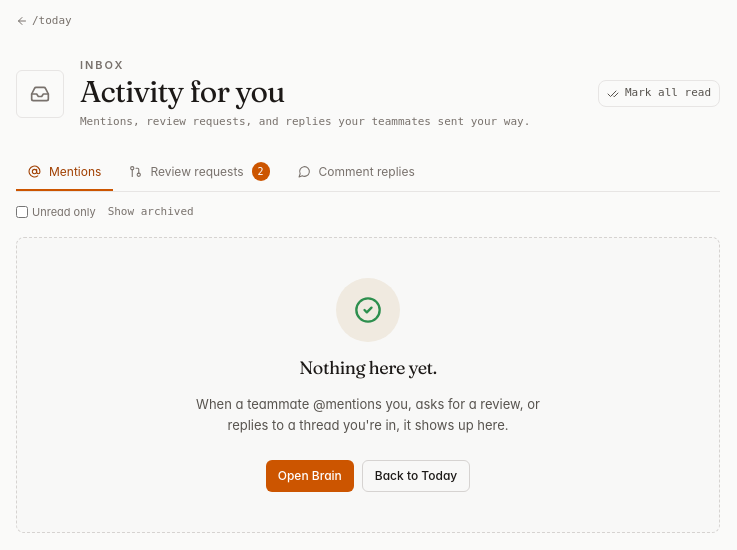
Test: InboxRoute (wave 1.13-A) › switches to review requests tab and shows badge counts
Expected: the text "2" is shown, [252, 162, 270, 181]
Expected: the text with test id "inbox-tab-review_request-badge" reads "2", [258, 166, 264, 177]
Step 1. Click the tab with test id "inbox-tab-review_request" → [200, 172], box [117, 154, 282, 191]
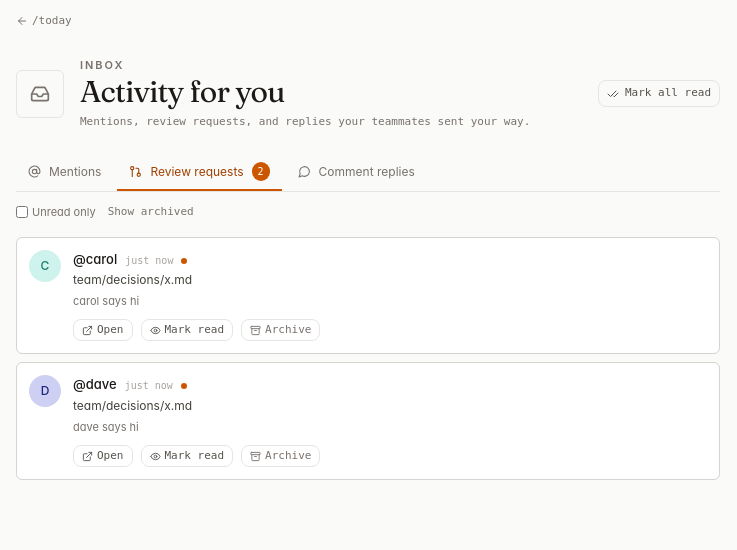
Now the number of elements with test id "inbox-event" is 2, box [16, 236, 720, 354]; [16, 362, 720, 480]
